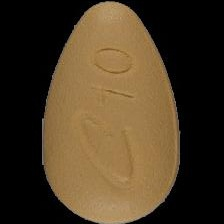21695-028: (0, 0, 224, 224)
